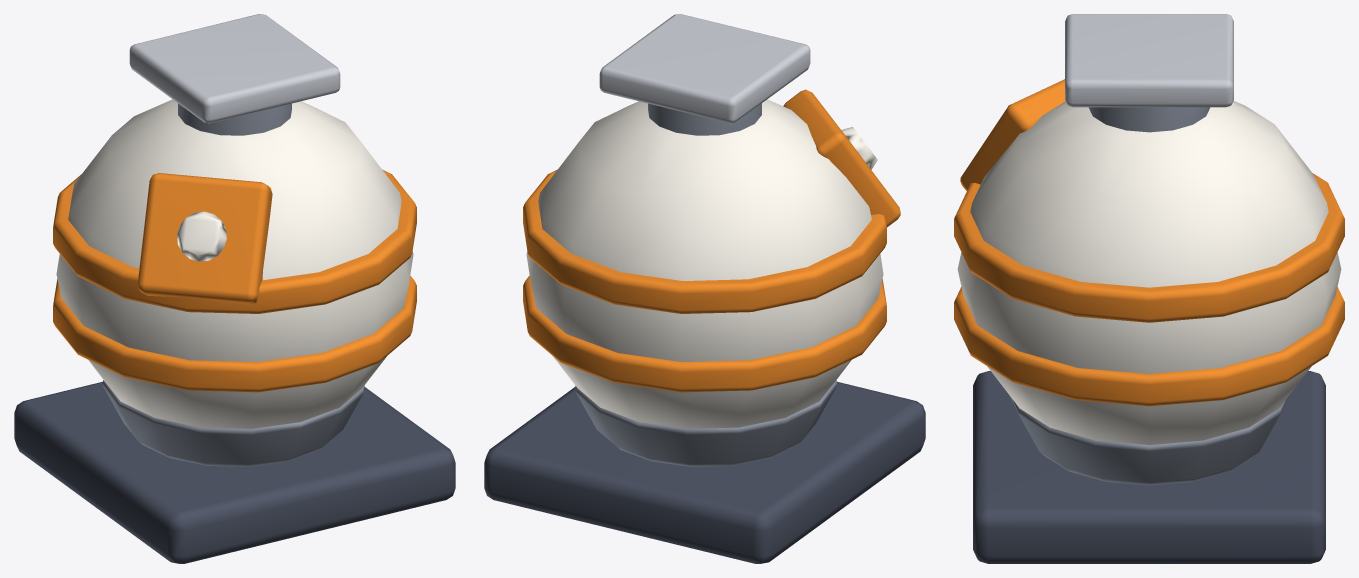
The model's file is Tank_OxygenSpare1.fbx.
The picture shows the model from 3 angles, left to right: view 1: azimuth 30°, elevation 25°; view 2: azimuth 150°, elevation 25°; view 3: azimuth 270°, elevation 25°; orthographic projection. The views are drawn at different scales.
Visible parts, largest first — view 1: Tank_OxygenSpare1.Shell, Tank_OxygenSpare1.Plinth, Tank_OxygenSpare1.Band, Tank_OxygenSpare1.Pad, Tank_OxygenSpare1.Label, Tank_OxygenSpare1.Cradle, Tank_OxygenSpare1.Dot_1, Tank_OxygenSpare1.Neck; view 2: Tank_OxygenSpare1.Shell, Tank_OxygenSpare1.Plinth, Tank_OxygenSpare1.Band, Tank_OxygenSpare1.Pad, Tank_OxygenSpare1.Cradle, Tank_OxygenSpare1.Label, Tank_OxygenSpare1.Neck, Tank_OxygenSpare1.Dot_1; view 3: Tank_OxygenSpare1.Shell, Tank_OxygenSpare1.Plinth, Tank_OxygenSpare1.Band, Tank_OxygenSpare1.Pad, Tank_OxygenSpare1.Cradle, Tank_OxygenSpare1.Label, Tank_OxygenSpare1.Neck.
Part boxes in pixels (bbox=[...]): Tank_OxygenSpare1.Shell: bbox=[56, 99, 413, 428]; Tank_OxygenSpare1.Plinth: bbox=[14, 381, 455, 563]; Tank_OxygenSpare1.Band: bbox=[53, 169, 416, 392]; Tank_OxygenSpare1.Pad: bbox=[129, 14, 340, 123]; Tank_OxygenSpare1.Label: bbox=[137, 173, 272, 304]; Tank_OxygenSpare1.Cradle: bbox=[103, 380, 364, 466]; Tank_OxygenSpare1.Dot_1: bbox=[177, 211, 226, 261]; Tank_OxygenSpare1.Neck: bbox=[178, 103, 291, 135]; Tank_OxygenSpare1.Shell: bbox=[526, 99, 883, 428]; Tank_OxygenSpare1.Plinth: bbox=[484, 381, 925, 563]; Tank_OxygenSpare1.Band: bbox=[523, 169, 886, 392]; Tank_OxygenSpare1.Pad: bbox=[599, 14, 810, 123]; Tank_OxygenSpare1.Cradle: bbox=[575, 380, 836, 466]; Tank_OxygenSpare1.Label: bbox=[783, 89, 900, 227]; Tank_OxygenSpare1.Neck: bbox=[648, 103, 761, 135]; Tank_OxygenSpare1.Dot_1: bbox=[841, 127, 877, 169]; Tank_OxygenSpare1.Shell: bbox=[957, 101, 1341, 444]; Tank_OxygenSpare1.Plinth: bbox=[973, 371, 1325, 563]; Tank_OxygenSpare1.Band: bbox=[954, 173, 1344, 406]; Tank_OxygenSpare1.Pad: bbox=[1065, 14, 1233, 107]; Tank_OxygenSpare1.Cradle: bbox=[1010, 396, 1288, 485]; Tank_OxygenSpare1.Label: bbox=[960, 79, 1065, 190]; Tank_OxygenSpare1.Neck: bbox=[1088, 107, 1210, 132].
Size of the model in its own units: 0.5094 by 0.645 by 0.5094.
Materials: 1 (1 with a texture image).
